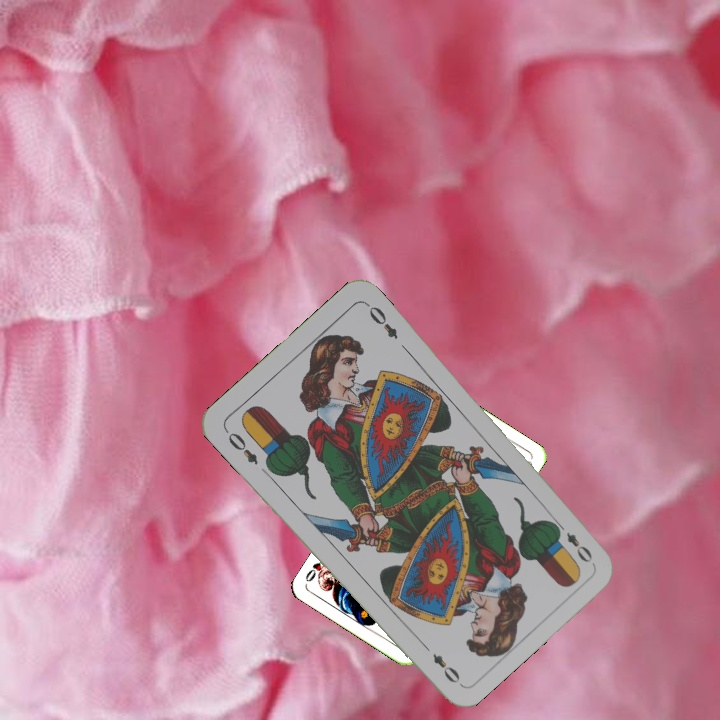EO: (551, 517, 595, 566), (221, 425, 261, 468)
